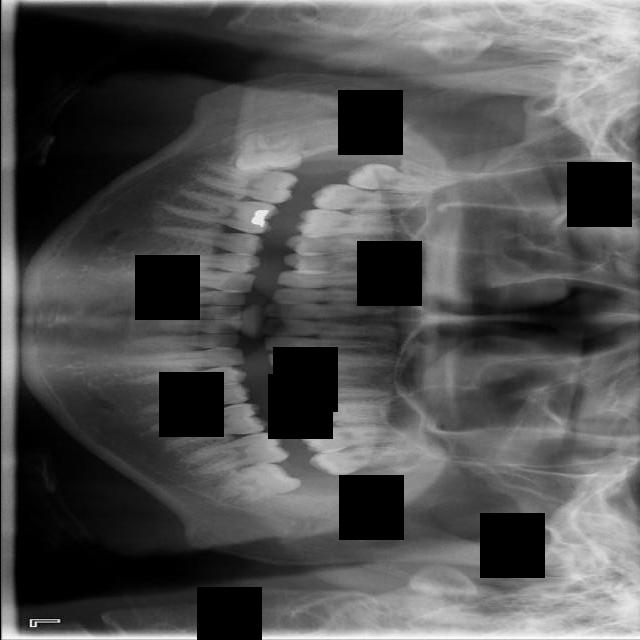3M ESPE Implant: (343, 161, 459, 196)
52: (222, 190, 280, 242)
73: (64, 603, 72, 612)
BioHorizons Implant: (297, 422, 413, 454)
BioLife Implant: (308, 448, 397, 477)
Biomet 3i Implant: (210, 453, 302, 513)
Blue Sky Bio Implant: (175, 428, 290, 480)
Caries: (309, 182, 437, 212)
Implant: (190, 158, 299, 207)
Keystone Dental Implant: (232, 130, 303, 176)
